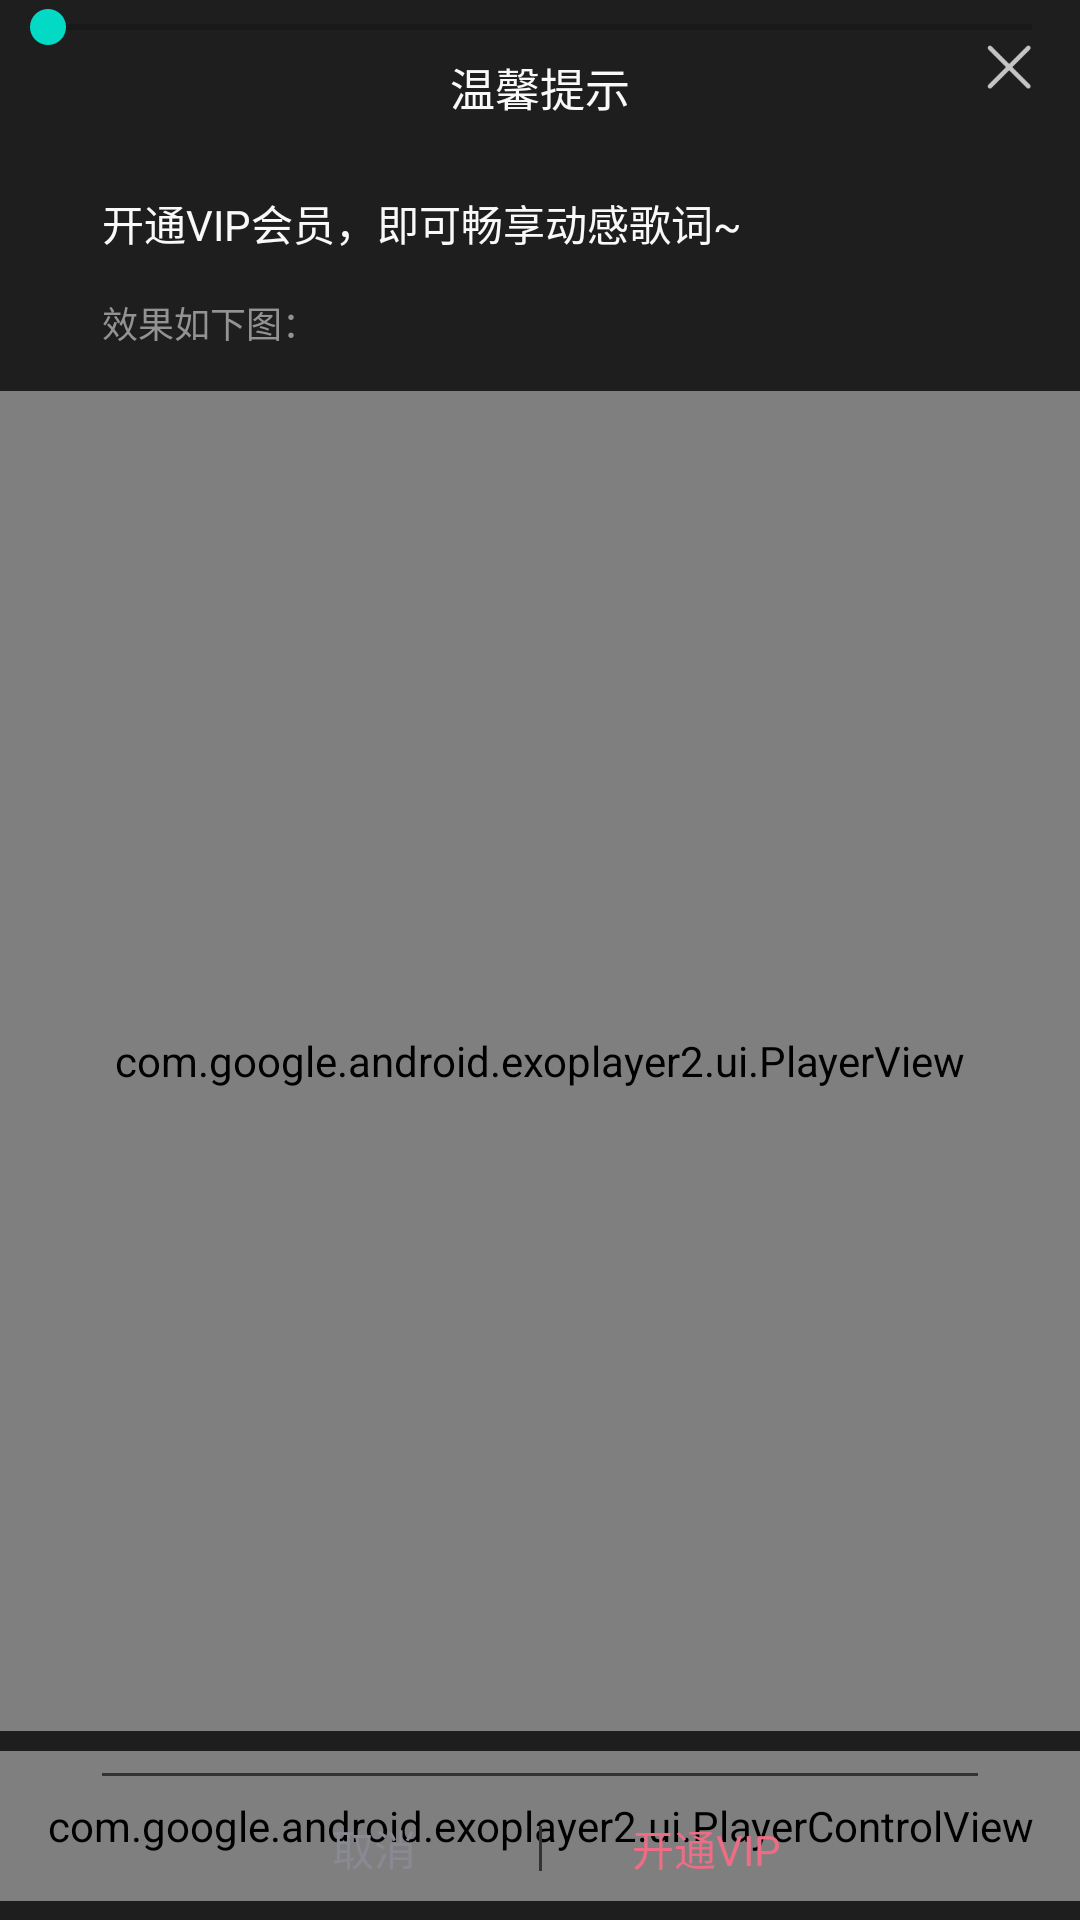

Icons on this 1080px×1920px Android screen, each with its box as (x1,y1,x2,y2):
cancel dialog: (987,45,1031,89)
